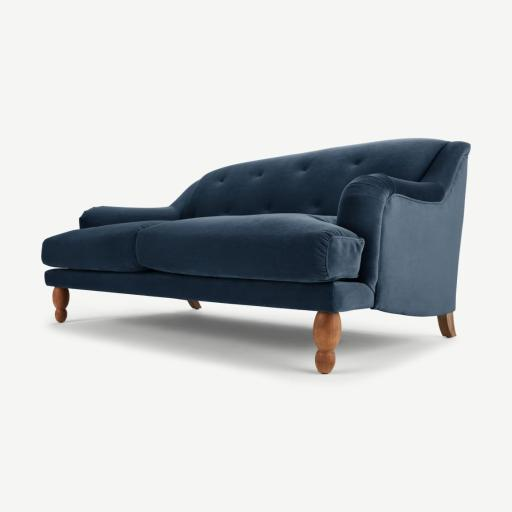back_cushion: (173, 139, 445, 219)
base: (45, 269, 373, 313)
left_arm: (375, 159, 466, 316), (345, 177, 382, 225)
legs: (313, 311, 341, 374), (53, 287, 69, 323), (437, 312, 456, 337), (188, 300, 201, 310)
right_arm: (79, 184, 195, 228)
seat_cushion: (42, 213, 369, 282)
two-seater: (0, 0, 511, 512)
